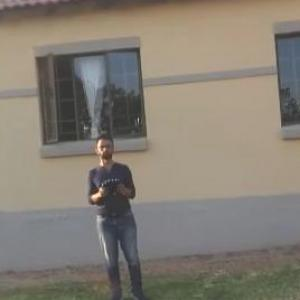follow: (86, 130, 152, 299)
